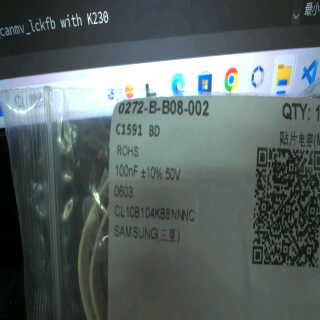100nF: (113, 162, 140, 182)
